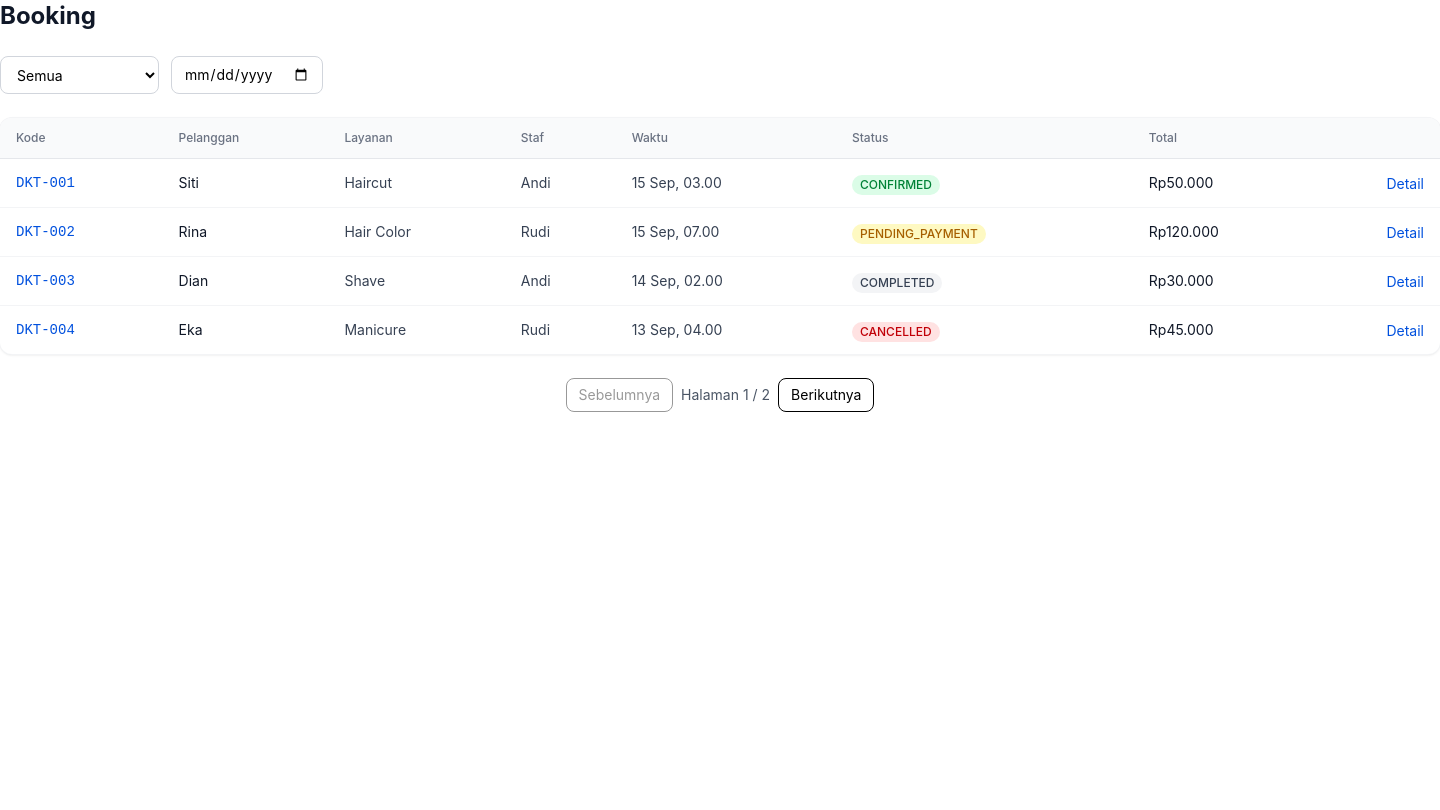
Test: BookingsPage (provider) › opens detail modal when clicking Detail button
Expected: the text "DKT-001" is shown, [0, 158, 163, 208]
Click the button "Detail" in the row of "DKT-001": [1405, 184] box [1386, 174, 1424, 194]
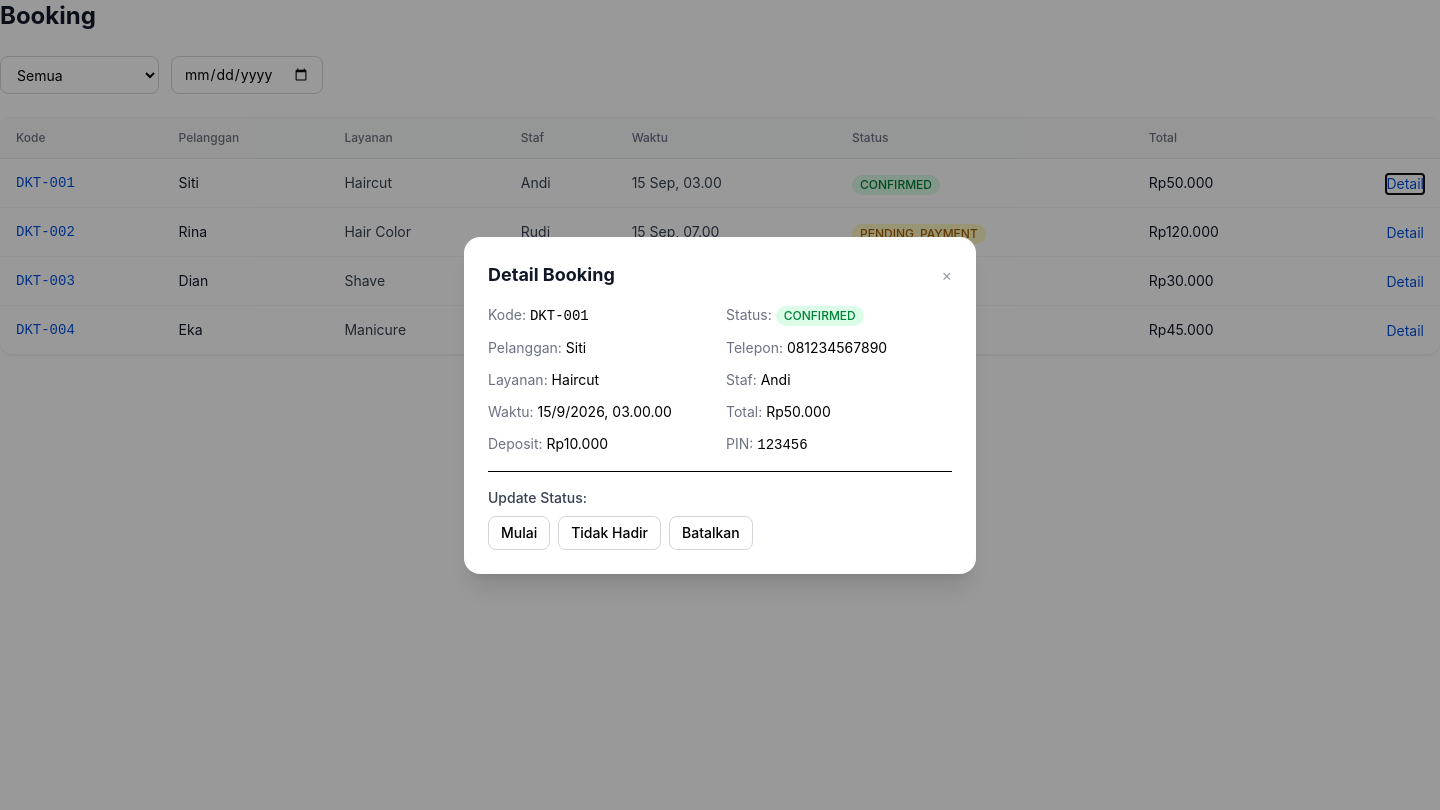
Expected: the heading "Detail Booking" is shown, [488, 260, 615, 288]
Expected: the text "081234567890" is shown, [787, 338, 887, 356]
Expected: the text "123456" is shown, [757, 436, 808, 452]
